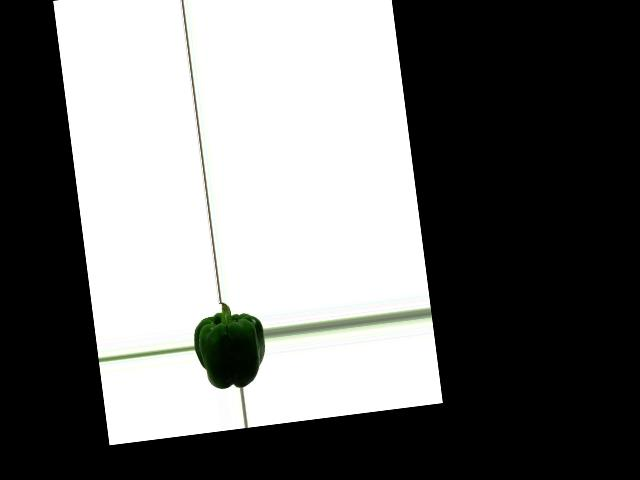bell_pepper: (190, 299, 268, 392)
